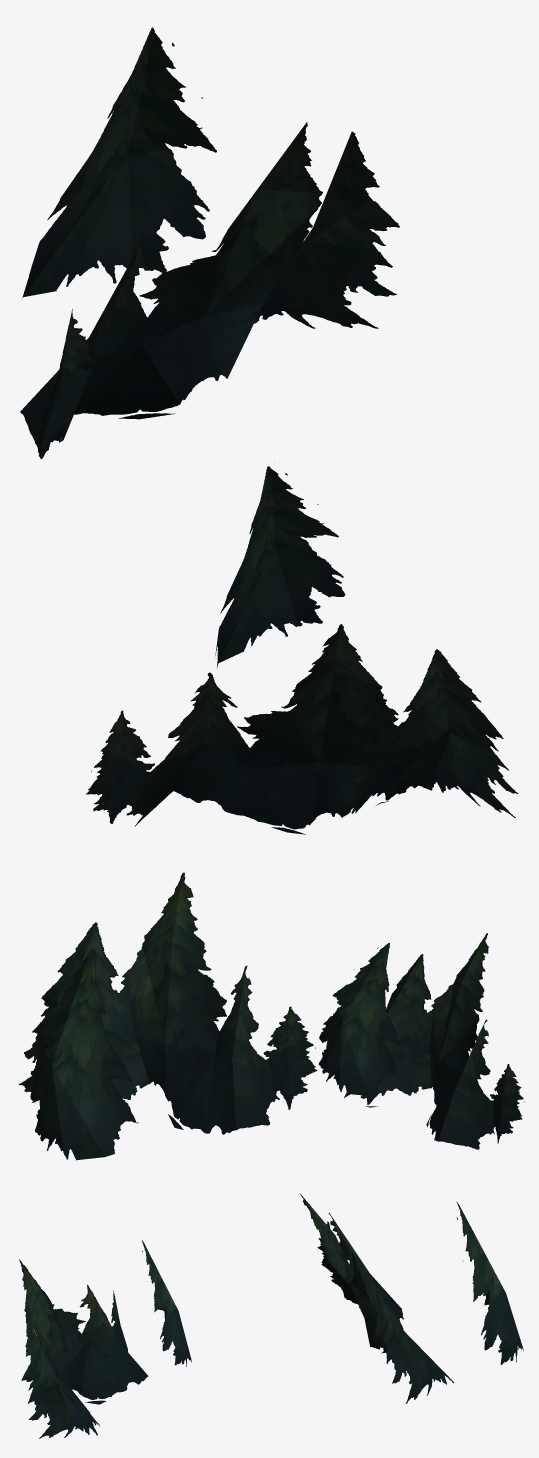
Rendered from MapObject_15.FBX.
3 renders of one model, top to bottom at view 1: azimuth 30°, elevation 25°; view 2: azimuth 150°, elevation 25°; view 3: azimuth 270°, elevation 25°, orthographic. The views are drawn at different scales.
Parts seen in each view (by area): view 1: polySurfaceMapGeoMesh185; view 2: polySurfaceMapGeoMesh185; view 3: polySurfaceMapGeoMesh185.
Part boxes in pixels (x1,y1,x2,y2): polySurfaceMapGeoMesh185: [20, 27, 518, 834]; polySurfaceMapGeoMesh185: [19, 872, 524, 1160]; polySurfaceMapGeoMesh185: [19, 1193, 523, 1438].
Size of the model in its own units: 871 by 737 by 1269.
